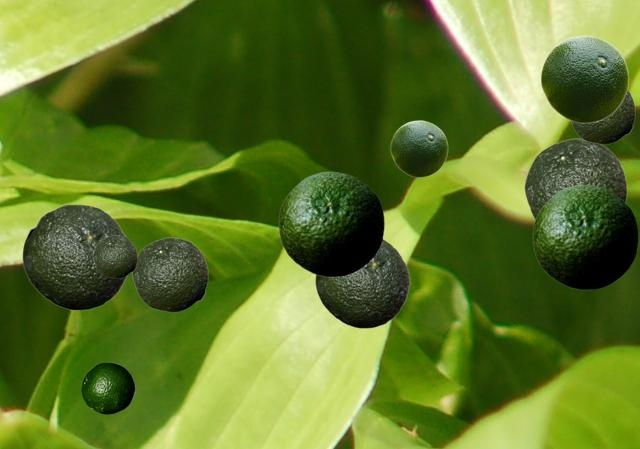calamansi: (22, 204, 127, 309), (532, 184, 637, 289), (278, 171, 383, 276), (315, 239, 409, 327), (524, 138, 626, 218), (540, 35, 628, 122), (132, 237, 207, 311), (570, 90, 634, 143), (390, 120, 447, 176), (81, 362, 134, 413), (93, 235, 136, 277)
